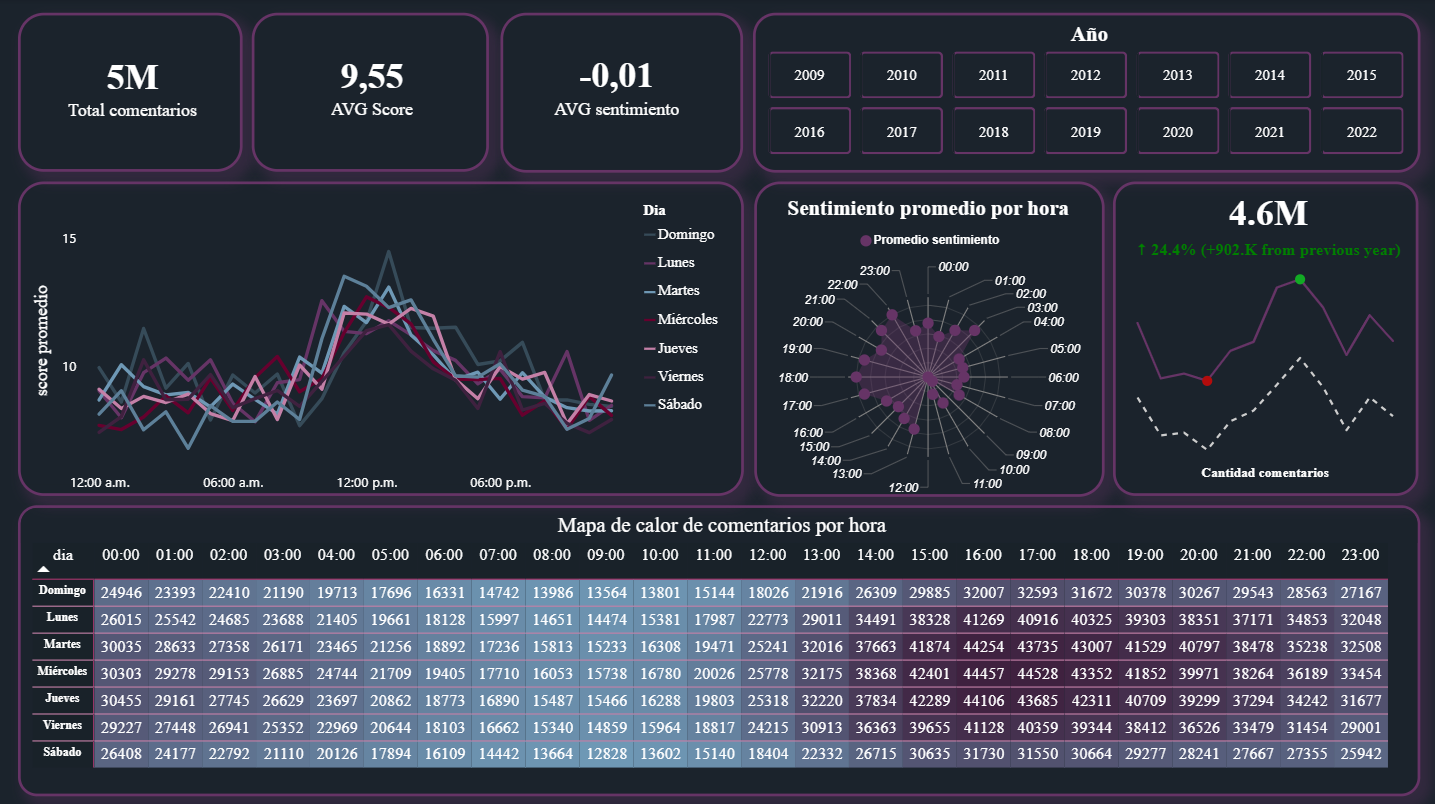

Layout of this report page (visuals, bound fields, positions):
{"tool":"powerbi","page":{"name":"Page 2","canvas":[1280,720],"ordinal":1},"visuals":[{"type":"pivotTable","title":"Mapa de calor de comentarios por hora","fields":{"Rows":["public patrones_horarios.dia_semana","public patrones_horarios.nombre_dia"],"Columns":["public patrones_horarios.hora"],"Values":["Sum(public patrones_horarios.volumen)"]},"box":[0,0,1280,297.8],"z":0},{"type":"RadarChart1446119667547","title":"Sentimiento promedio por hora","fields":{"Category":["public patrones_horarios.hora"],"Y":["Sum(public patrones_horarios.sentiment_promedio)"]},"box":[0,297.8,528.9,388.9],"z":1000},{"type":"lineChart","title":"Sentimiento promedio por hora y dia","fields":{"Category":["public patrones_horarios.hora"],"Series":["public patrones_horarios.nombre_dia"],"Y":["Sum(public patrones_horarios.score_promedio)"]},"box":[540,297.8,740,388.9],"z":2000}]}

Visuals, with their boxes in screenshot pixels (x1, y1, x2, y2), scaled from the page's 1280x720 canvas onto the 1435x804 screenshot:
"Mapa de calor de comentarios por hora" pivotTable: bbox=(0, 0, 1434, 333)
"Sentimiento promedio por hora" RadarChart1446119667547: bbox=(0, 333, 593, 767)
"Sentimiento promedio por hora y dia" lineChart: bbox=(605, 333, 1434, 767)
